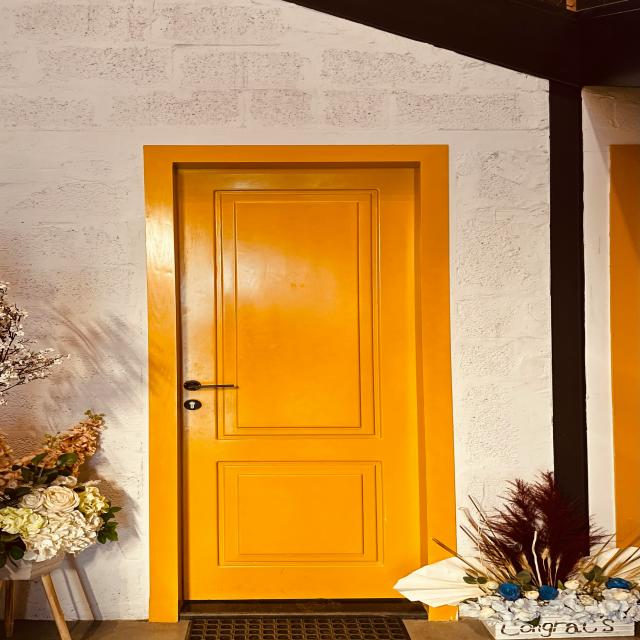door-handle: (183, 380, 235, 391)
